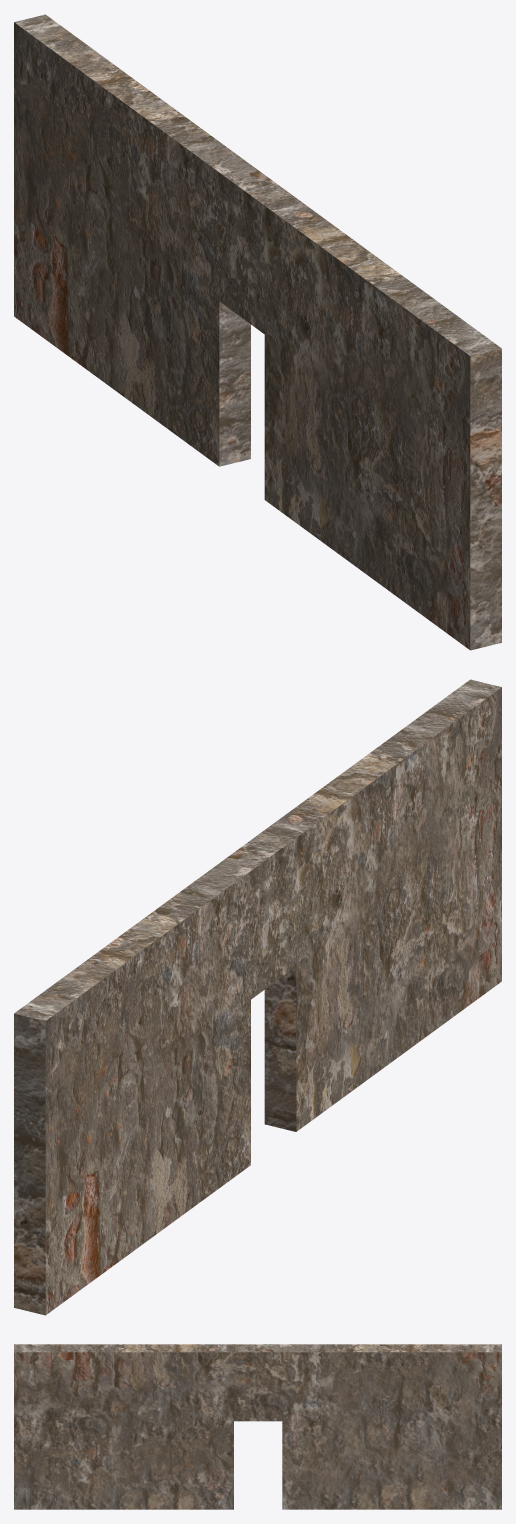
The model's file is techo__conpuertanormal_modulo_5metros.fbx.
3 views of the same model, one above another, from view 1: azimuth 30°, elevation 25°; view 2: azimuth 150°, elevation 25°; view 3: azimuth 270°, elevation 25° (orthographic). The views are drawn at different scales.
Visible parts, largest first — view 1: pared.conpuerta_normal; view 2: pared.conpuerta_normal; view 3: pared.conpuerta_normal.
Part boxes in pixels (x1,y1,x2,y2): pared.conpuerta_normal: [14, 14, 501, 650]; pared.conpuerta_normal: [14, 679, 501, 1315]; pared.conpuerta_normal: [14, 1344, 501, 1509].
Size of the model in its own units: 40 by 356 by 1000.
